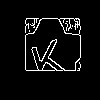K: (25, 30, 69, 84)
